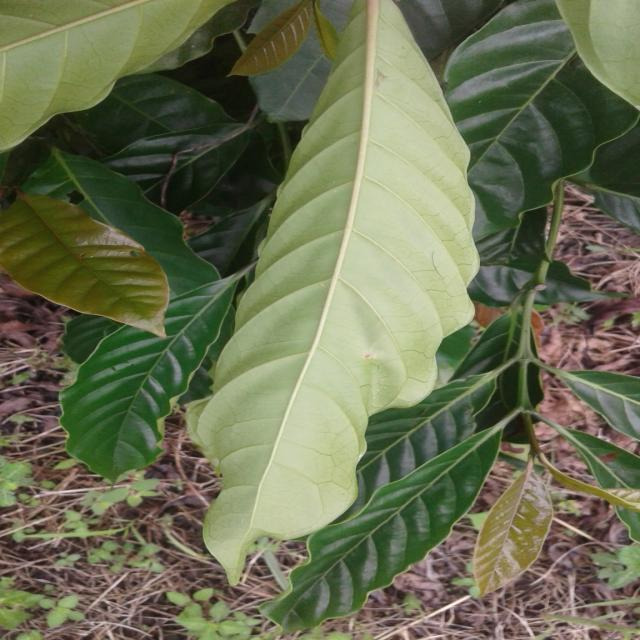Enfermedad-Roya: (187, 0, 480, 584)
